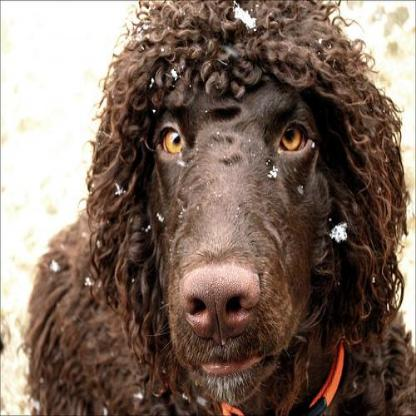Irish_water_spaniel: (14, 0, 414, 413)
